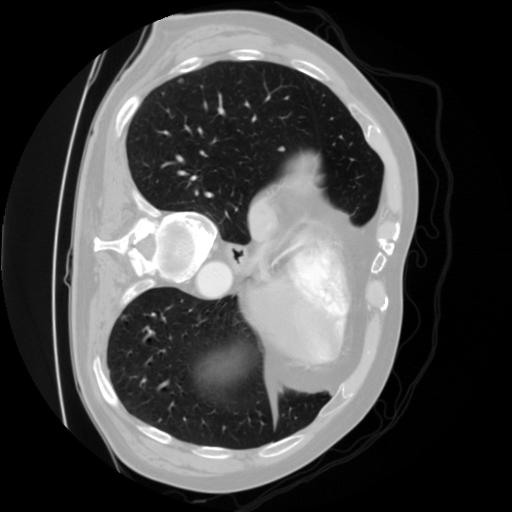nodule: (277, 143, 288, 154)
